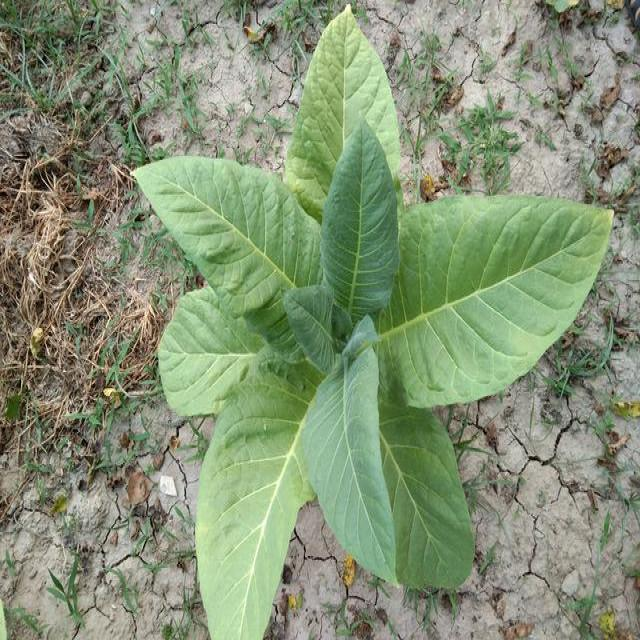crop: (130, 5, 609, 640)
